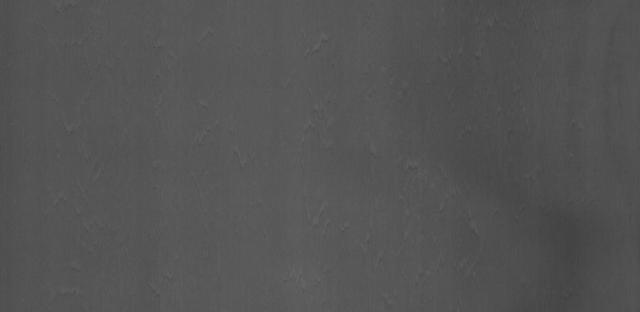silk_spot: (388, 142, 471, 210), (352, 69, 439, 101), (305, 106, 354, 150), (301, 19, 337, 52)
